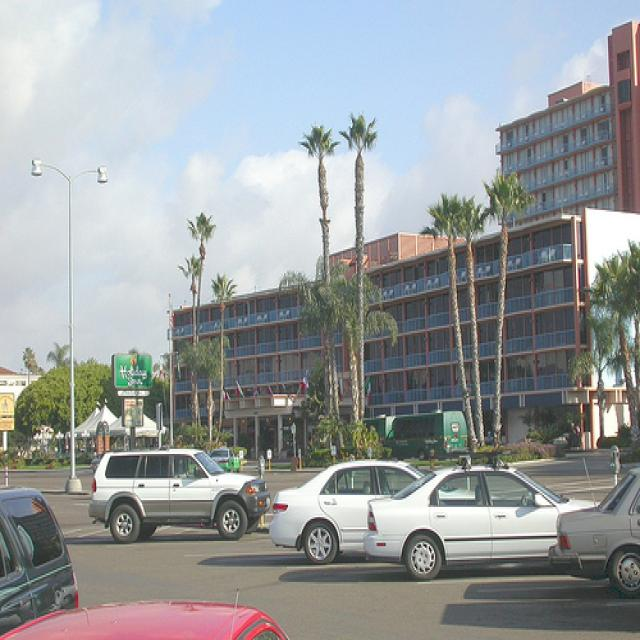car: (365, 463, 600, 583), (88, 448, 272, 546), (269, 458, 424, 566), (548, 467, 640, 598), (1, 484, 79, 634), (1, 602, 289, 639), (383, 412, 469, 462), (207, 446, 242, 474)
